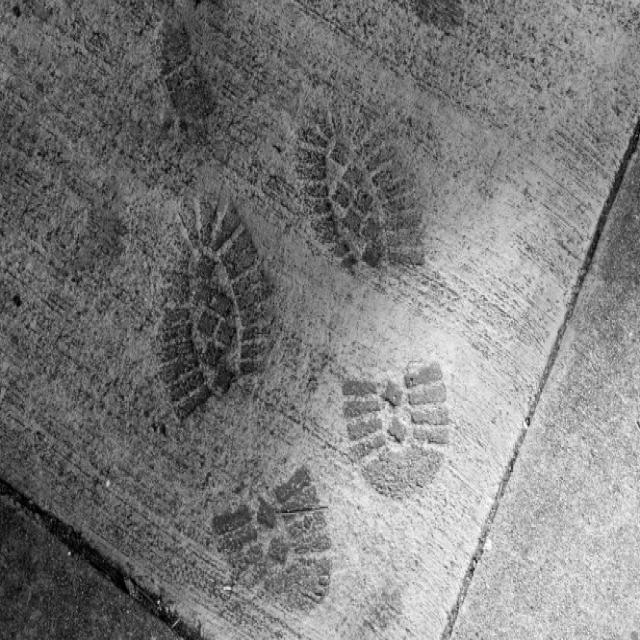human_footprint: (54, 26, 503, 624), (334, 354, 456, 502)
